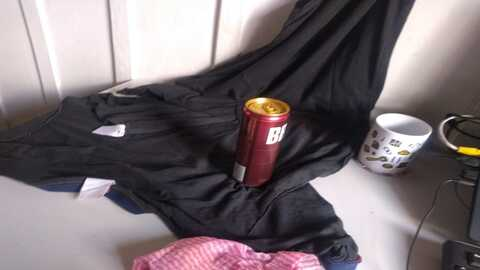duplo_malte: (236, 92, 293, 196)
